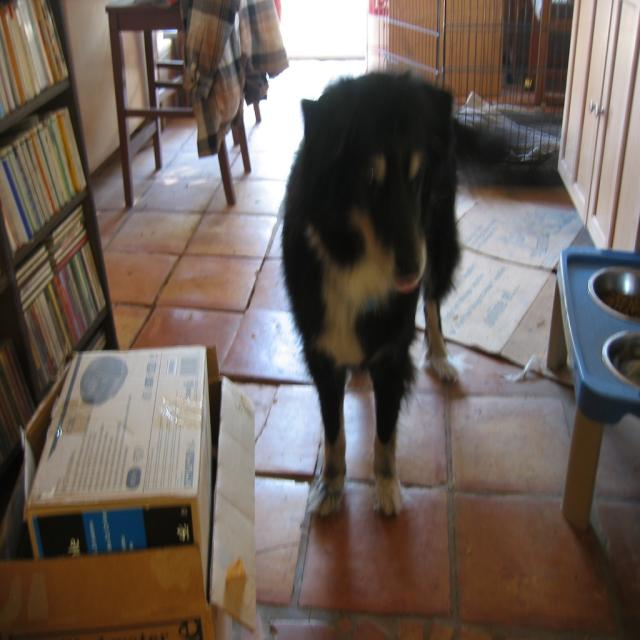Dog: (278, 68, 462, 520)
